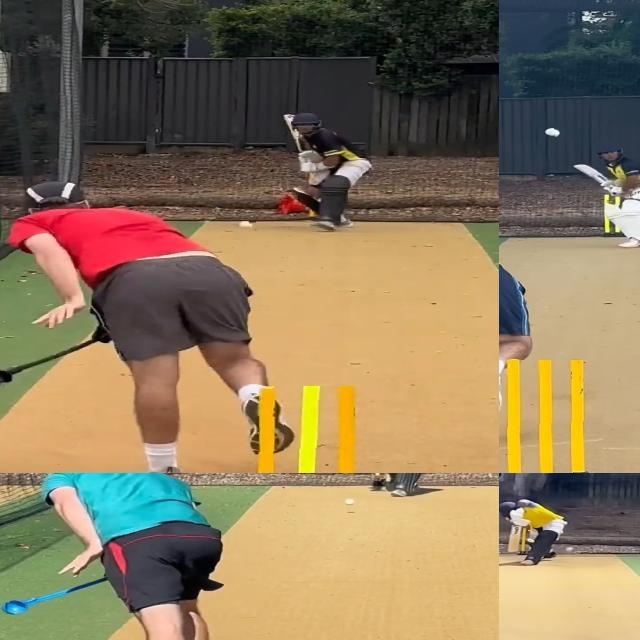Cricket ball: (544, 127, 562, 137), (239, 220, 256, 229), (343, 498, 357, 508), (565, 546, 575, 552)
Stumps: (499, 359, 604, 473), (241, 386, 367, 473)
